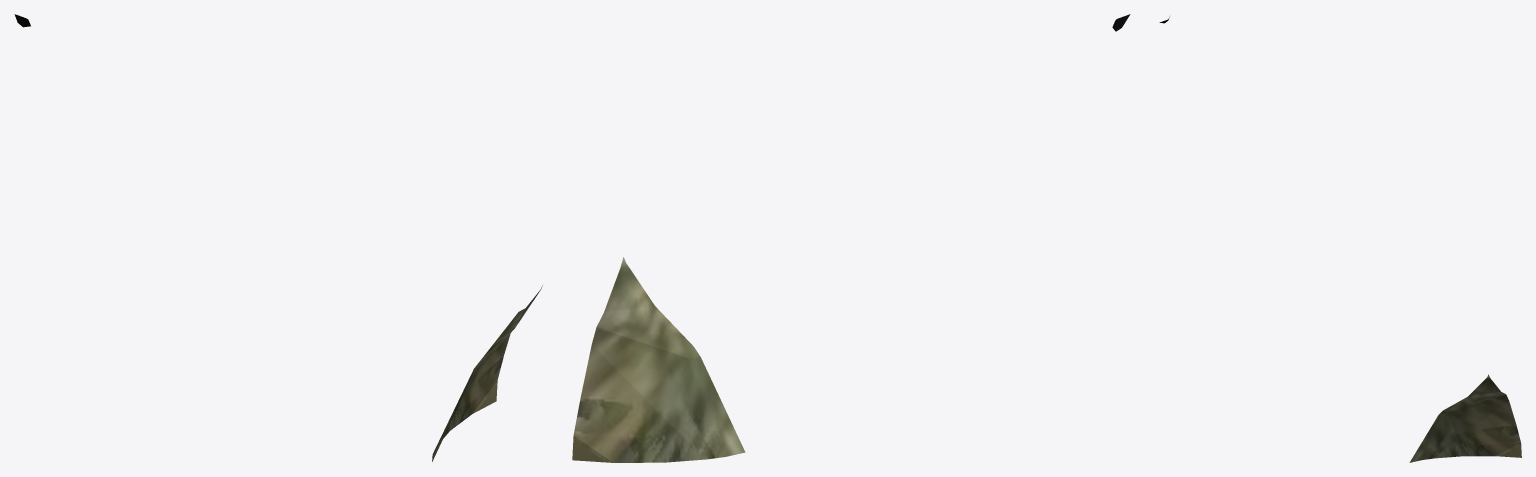
3 views of the same model, side by side, from view 1: azimuth 30°, elevation 25°; view 2: azimuth 150°, elevation 25°; view 3: azimuth 330°, elevation 25° (orthographic). The views are drawn at different scales.
Size of the model in its own units: 2.95 by 2.95 by 0.4919.
1 material, 1 textured.
